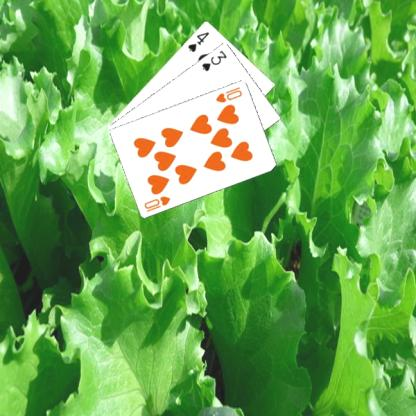10H: (212, 83, 244, 104), (141, 193, 172, 213)
3S: (199, 47, 229, 72)
4S: (185, 29, 210, 53)
